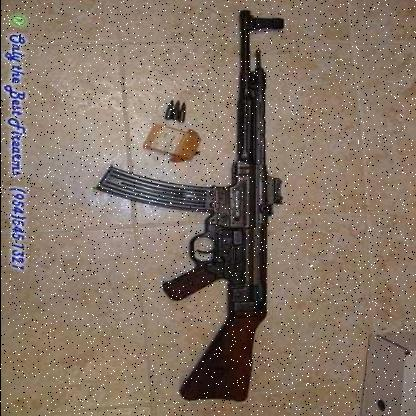rifle: (80, 6, 293, 415)
